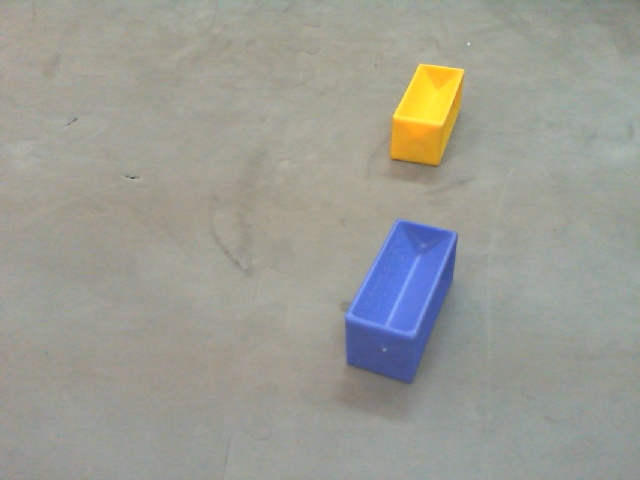BlueSample: (345, 217, 458, 385)
YellowSample: (386, 60, 473, 170)
